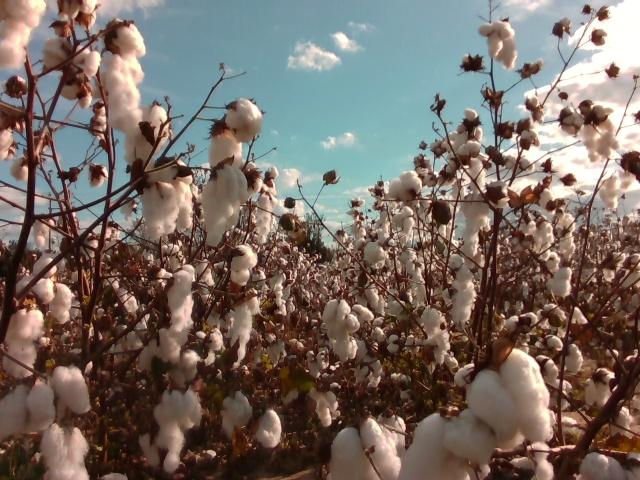cotton_ready: (470, 348, 554, 450), (400, 410, 495, 480), (330, 418, 401, 480), (155, 385, 204, 471), (202, 160, 249, 245), (157, 265, 196, 357), (1, 307, 46, 376), (0, 0, 45, 69), (0, 381, 55, 437), (125, 104, 168, 171), (107, 56, 143, 136), (39, 423, 89, 480), (151, 162, 194, 227), (225, 290, 259, 370), (581, 103, 620, 160), (61, 45, 100, 100), (458, 196, 491, 258), (51, 364, 90, 413), (16, 256, 56, 302), (141, 181, 177, 231), (255, 168, 278, 244), (224, 97, 262, 142), (510, 442, 553, 480), (456, 140, 485, 195), (107, 18, 145, 59), (323, 298, 361, 339), (583, 453, 640, 480), (219, 392, 251, 438), (451, 266, 477, 321), (227, 244, 259, 287), (478, 20, 514, 58), (353, 338, 384, 380), (308, 386, 339, 427), (583, 368, 616, 406), (252, 408, 283, 448), (353, 290, 387, 325), (209, 129, 242, 165), (46, 285, 75, 324), (387, 171, 424, 200), (168, 350, 197, 386), (196, 330, 225, 365), (457, 107, 483, 143), (43, 35, 72, 67), (505, 312, 538, 338), (558, 342, 584, 375), (422, 304, 447, 336), (56, 0, 95, 19), (599, 173, 619, 210), (428, 332, 450, 364), (483, 180, 509, 207), (331, 336, 359, 361), (549, 264, 572, 294), (559, 110, 582, 137), (364, 242, 389, 266), (497, 43, 517, 69), (0, 123, 13, 158)
